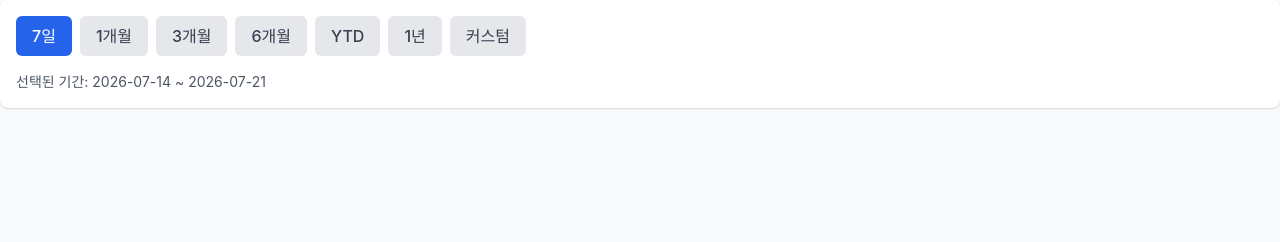
DateRangeSelector › 날짜 범위가 1년(365일)을 초과하면 에러 메시지를 표시한다
Note: 커스텀 버튼 클릭
Click the button "커스텀" at coordinates (488, 36), box [450,16,526,56]
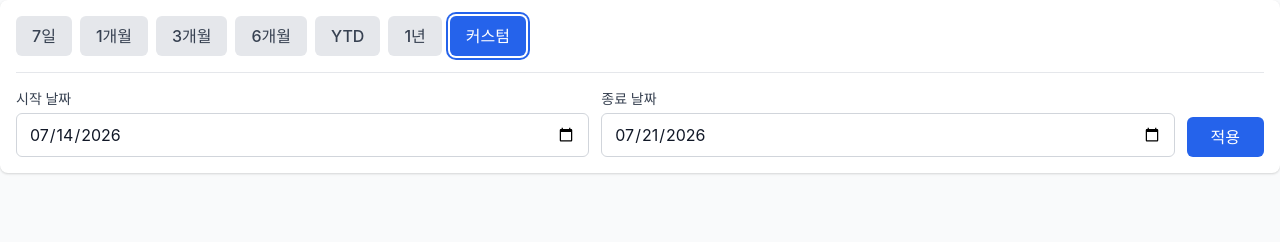
Type "2023-01-01" into the date field labelled "시작 날짜" at coordinates (303, 135), box [16,113,589,157]
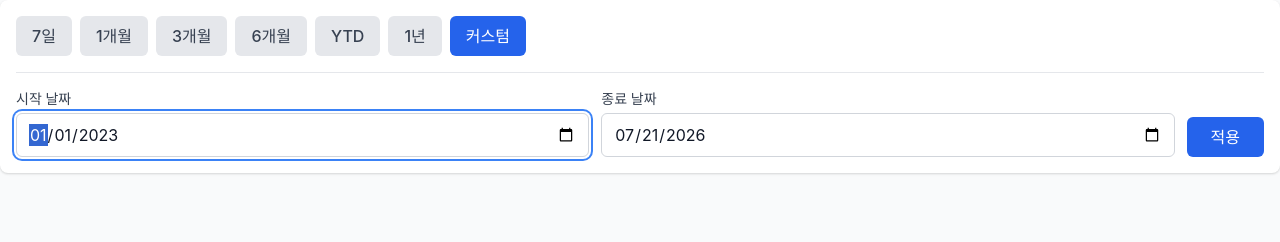
Type "2025-01-01" into the date field labelled "종료 날짜" at coordinates (888, 135), box [601,113,1175,157]
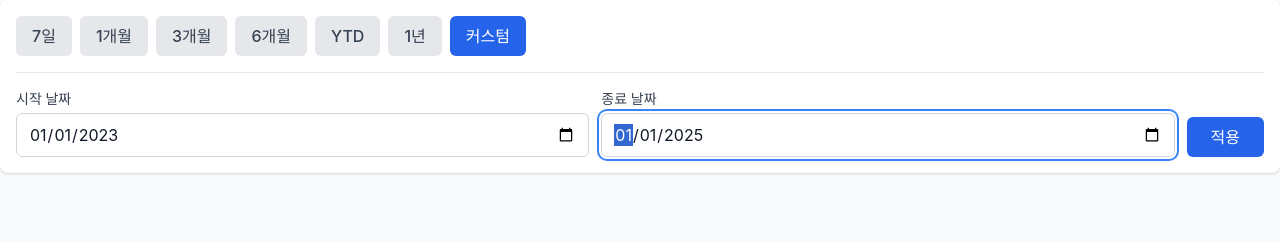
Note: 적용 버튼 클릭
Click the button "적용" at coordinates (1225, 137), box [1187,117,1264,157]
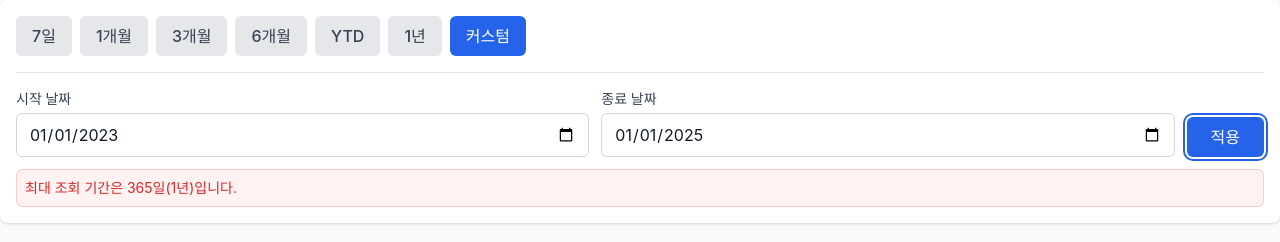
Expected: the text "최대 조회 기간은 365일(1년)입니다." is shown, [25,179,237,196]
